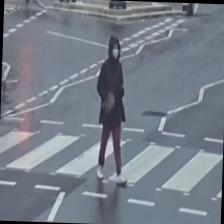person: (93, 34, 131, 183)
